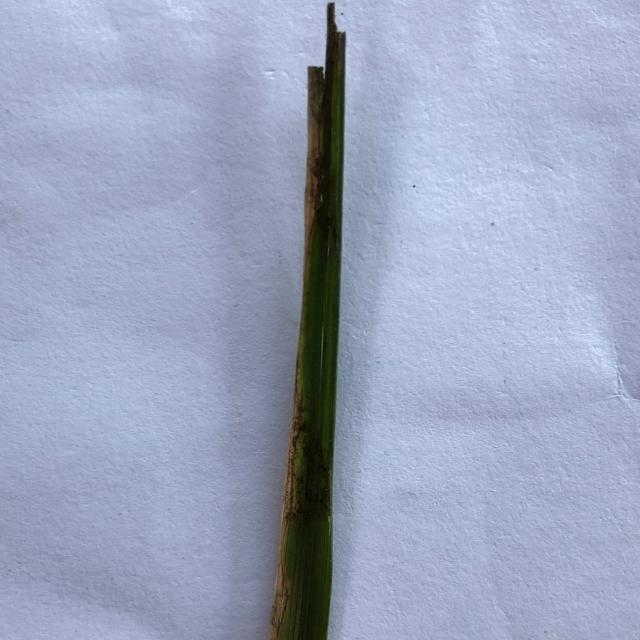leaf blight: (262, 316, 310, 640), (306, 67, 328, 250), (288, 616, 331, 640)
